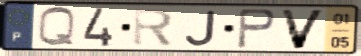4: (82, 6, 115, 48)
J: (184, 9, 219, 48)
P: (234, 7, 278, 50)
Q: (36, 5, 78, 49)
R: (131, 7, 177, 49)
V: (278, 8, 328, 51)
